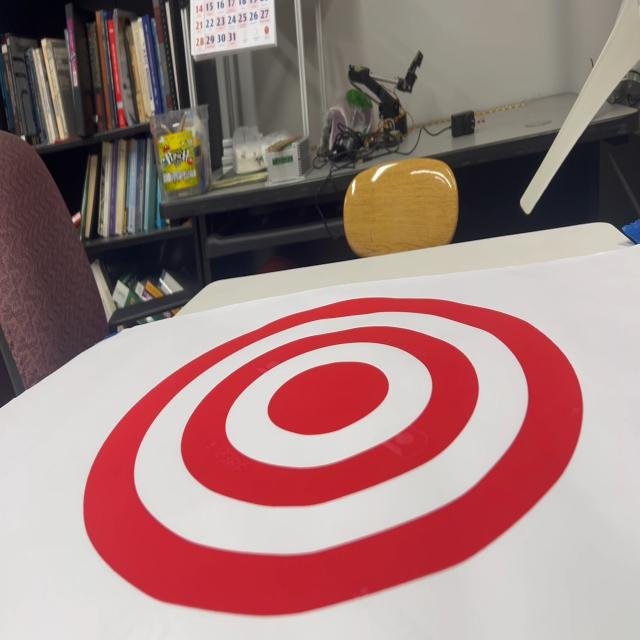target_red: (74, 286, 596, 638)
